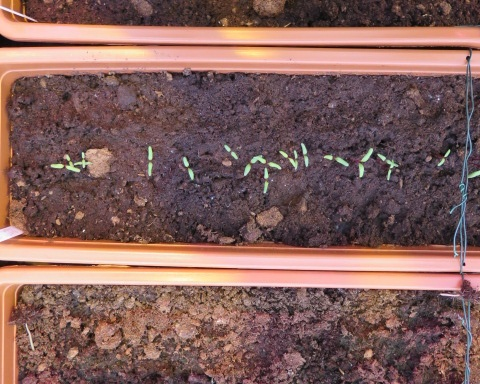crop: (356, 145, 375, 180), (318, 153, 350, 168), (180, 154, 197, 182), (49, 162, 81, 176), (255, 155, 283, 170), (243, 153, 262, 175), (298, 140, 311, 170), (434, 147, 452, 168), (144, 144, 155, 178), (260, 166, 272, 196), (377, 153, 399, 169), (222, 142, 240, 161), (279, 150, 295, 168), (385, 159, 395, 181), (292, 150, 300, 171), (64, 154, 74, 166), (80, 152, 86, 168)
